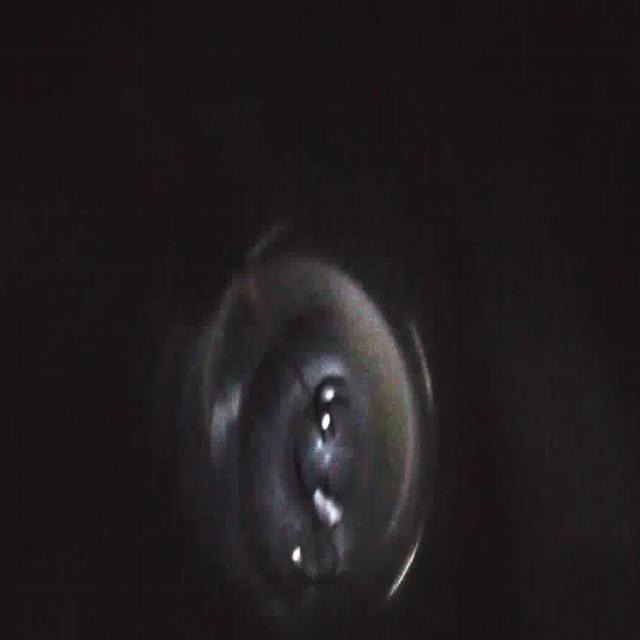impurity: (298, 522, 344, 594), (296, 484, 346, 526)
